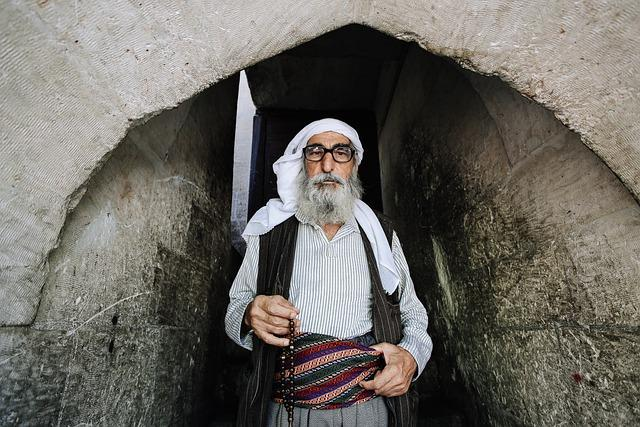Non_Gorille: (167, 41, 585, 410)
